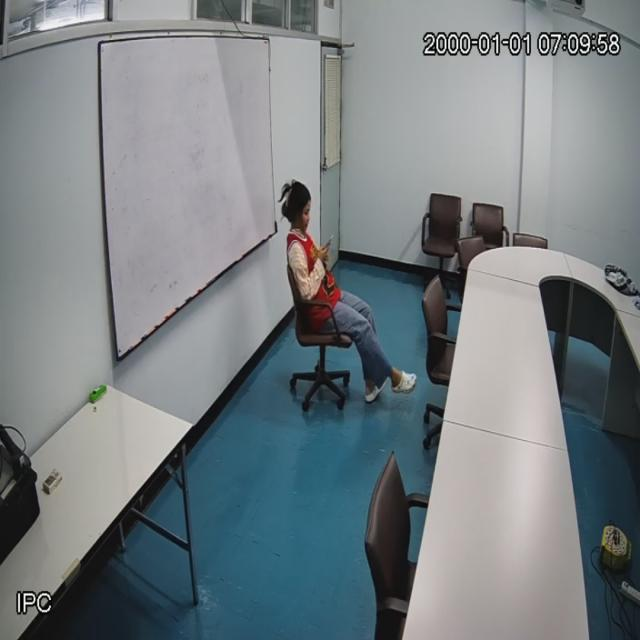normal: (288, 182, 386, 398)
